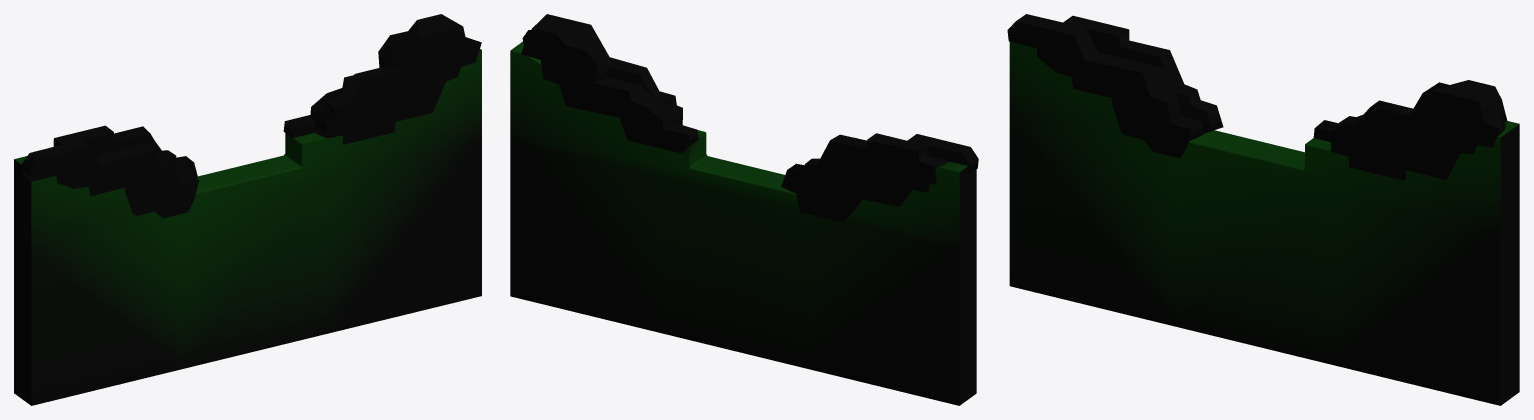
File: DBK_Brick_WinSmall_Tile.fbx
The picture shows the model from 3 angles, left to right: view 1: azimuth 30°, elevation 25°; view 2: azimuth 150°, elevation 25°; view 3: azimuth 330°, elevation 25°; orthographic projection. The views are drawn at different scales.
Parts seen in each view (by area): view 1: DBK_Brick_WinSmall_Tile; view 2: DBK_Brick_WinSmall_Tile; view 3: DBK_Brick_WinSmall_Tile.
Boxes of the visible parts, box(x1,y1,x2,y2) form: DBK_Brick_WinSmall_Tile: box(14, 14, 481, 405); DBK_Brick_WinSmall_Tile: box(510, 14, 978, 405); DBK_Brick_WinSmall_Tile: box(1007, 14, 1519, 405).
Size of the model in its own units: 301 by 175 by 21.05.
